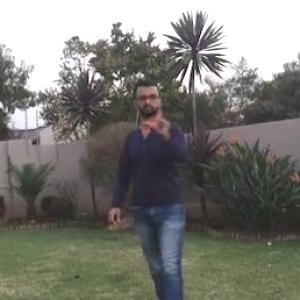land_hand: (143, 99, 178, 142)
